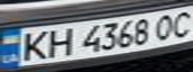3: (100, 20, 121, 52)
4: (78, 21, 103, 54)
6: (115, 17, 139, 50)
8: (130, 16, 157, 46)
C: (169, 8, 193, 38)
H: (42, 25, 78, 57)
K: (15, 29, 54, 62)
O: (151, 11, 181, 42)
